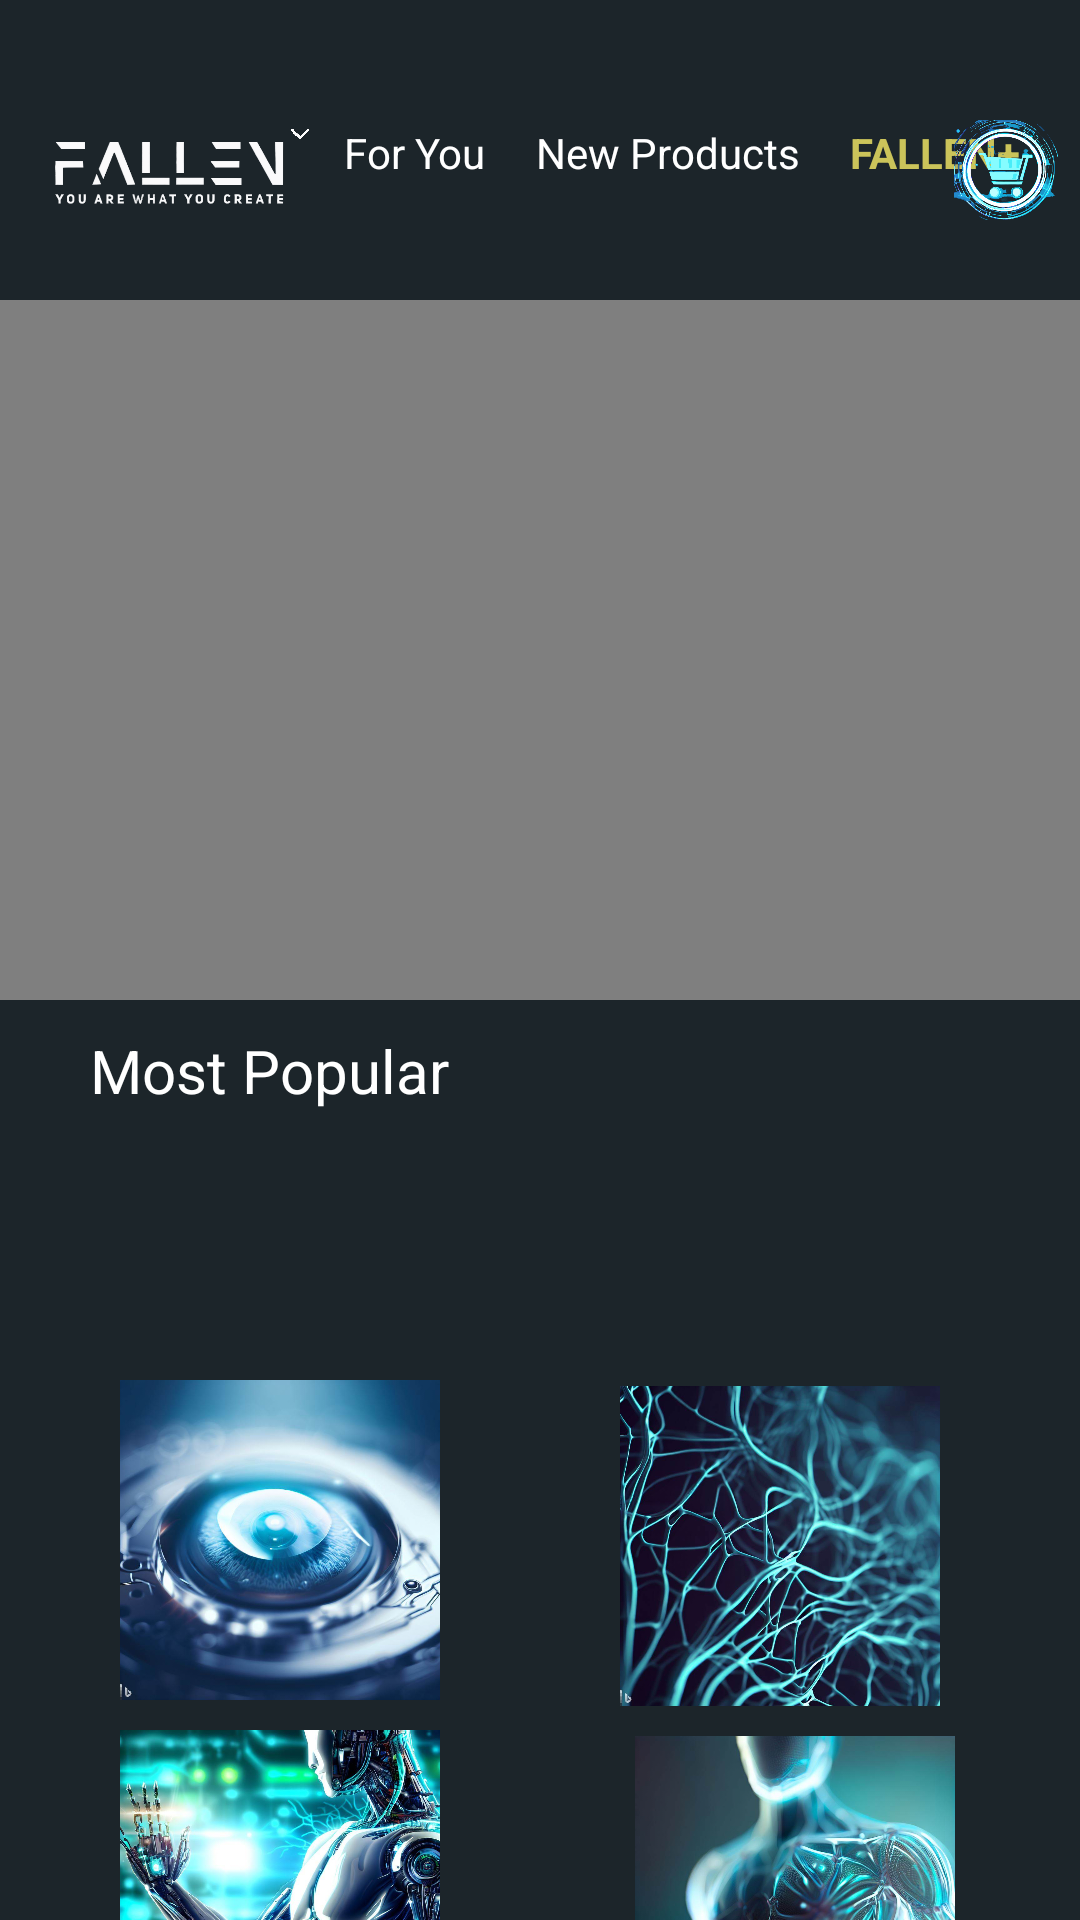

Screen size 1080px x 1920px. Icon name, then its box in pixels as (x1, y1, x2, y2):
futuristic cart: (954, 120, 1058, 220)
neural lace: (620, 1386, 940, 1706)
smart contact lens: (120, 1380, 440, 1700)
